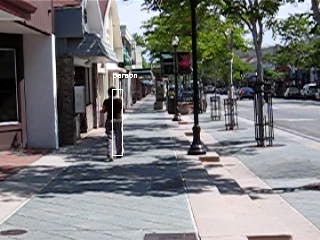person: (102, 87, 126, 164), (101, 87, 125, 164), (103, 87, 127, 164), (102, 86, 126, 163), (102, 88, 126, 165)
target_negative: (8, 140, 203, 172), (156, 187, 305, 193), (84, 219, 117, 229), (126, 157, 187, 161), (202, 202, 207, 240), (289, 231, 295, 232)
